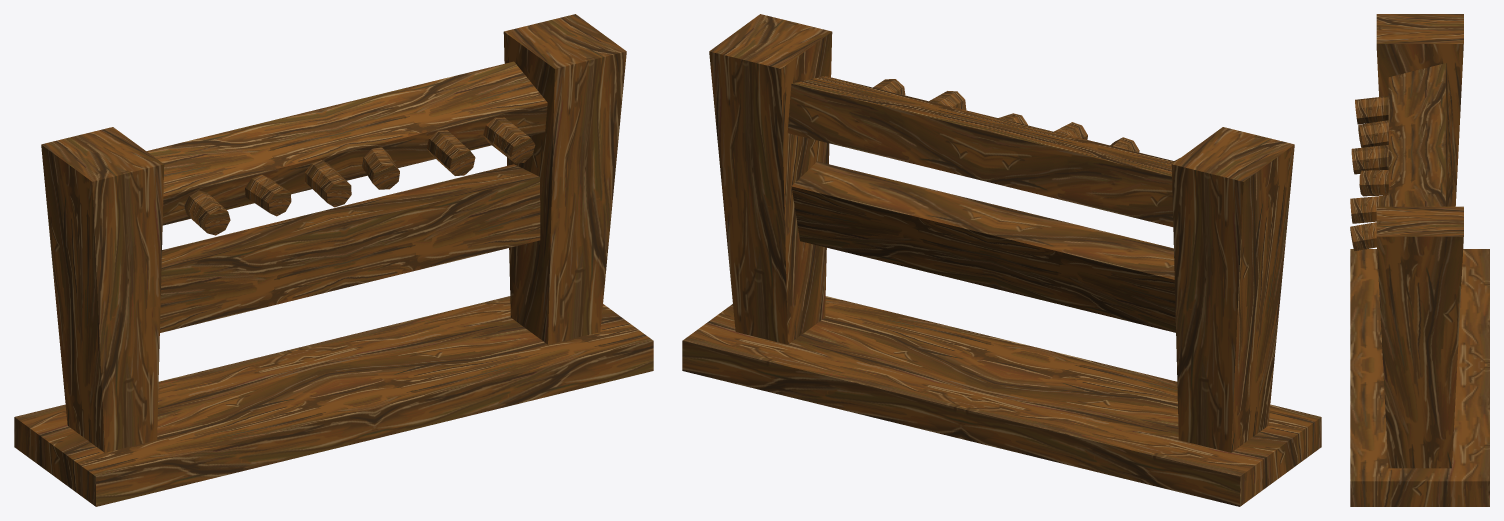
Rendered from e_asset_weaponrack.fbx.
The picture shows the model from 3 angles, left to right: view 1: azimuth 30°, elevation 25°; view 2: azimuth 150°, elevation 25°; view 3: azimuth 270°, elevation 25°; orthographic projection. The views are drawn at different scales.
Visible parts, largest first — view 1: polySurface735; view 2: polySurface735; view 3: polySurface735.
Part boxes in pixels (x1,y1,x2,y2): polySurface735: (14,14,653,506); polySurface735: (682,14,1321,506); polySurface735: (1350,14,1489,506).
Size of the model in its own units: 1.47 by 0.7851 by 0.3745.
